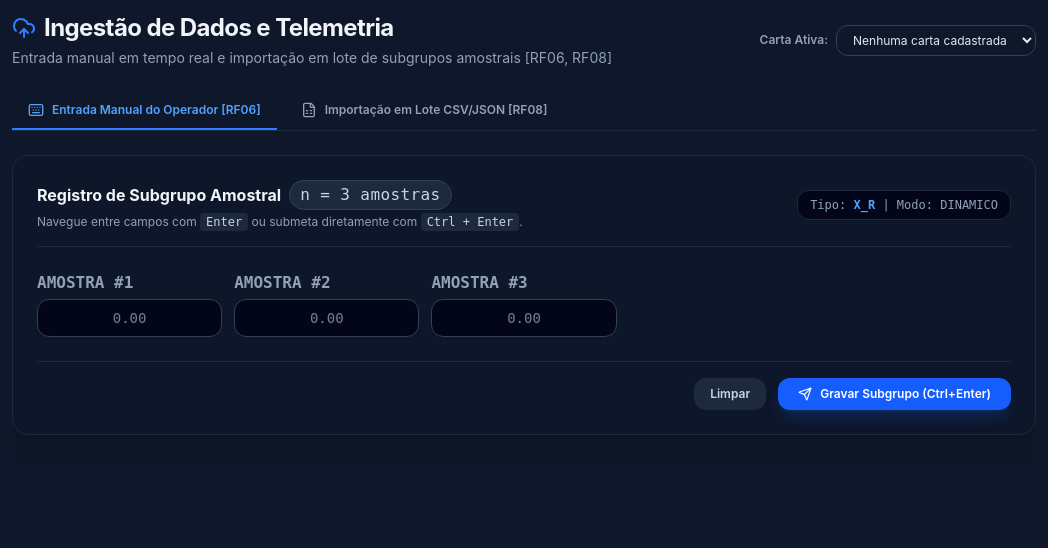
Test case: IngestaoPage › deve submeter subgrupo manual com sucesso e exibir feedback positivo [RF06]
The width and height of the screenshot is (1048, 548).
Step 1. Type "10.1" into the field labelled "Amostra #1" → (130, 318), box [37, 299, 222, 337]
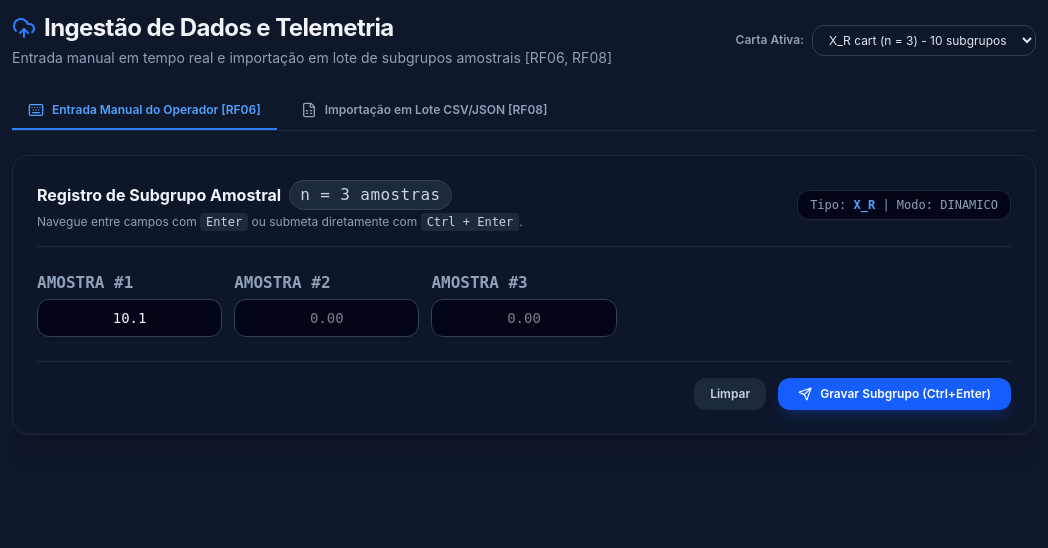
Step 2. Type "10.0" into the field labelled "Amostra #2" → (327, 318), box [234, 299, 419, 337]
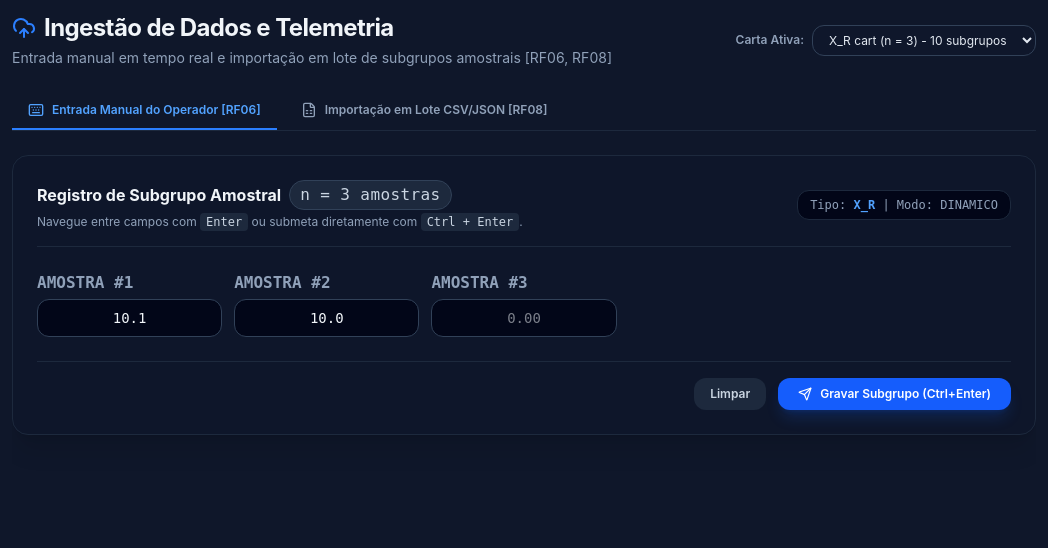
Step 3. Type "9.9" into the field labelled "Amostra #3" → (524, 318), box [431, 299, 617, 337]
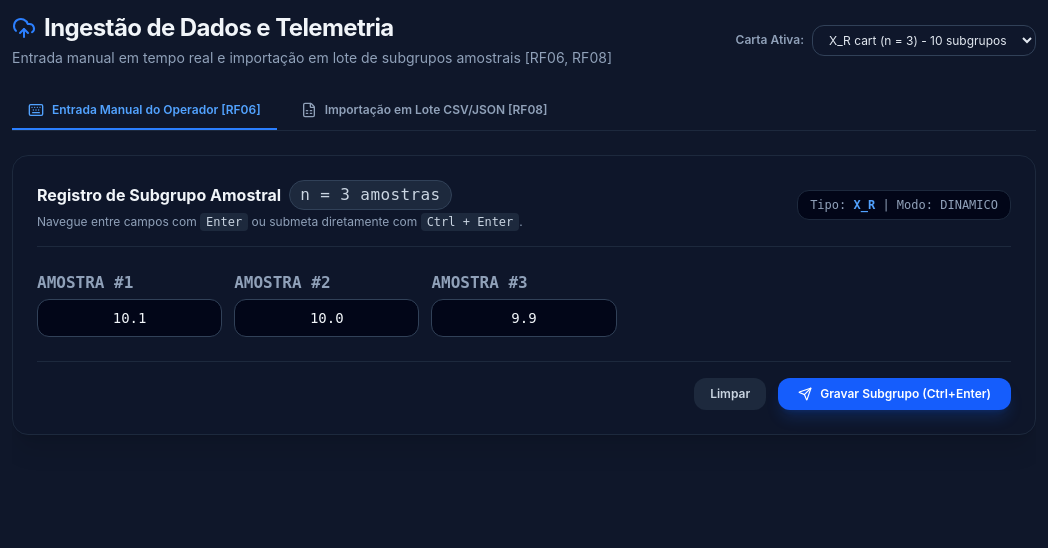
Step 4. Click the button "Gravar Subgrupo (Ctrl+Enter)" → (895, 394), box [778, 378, 1011, 410]
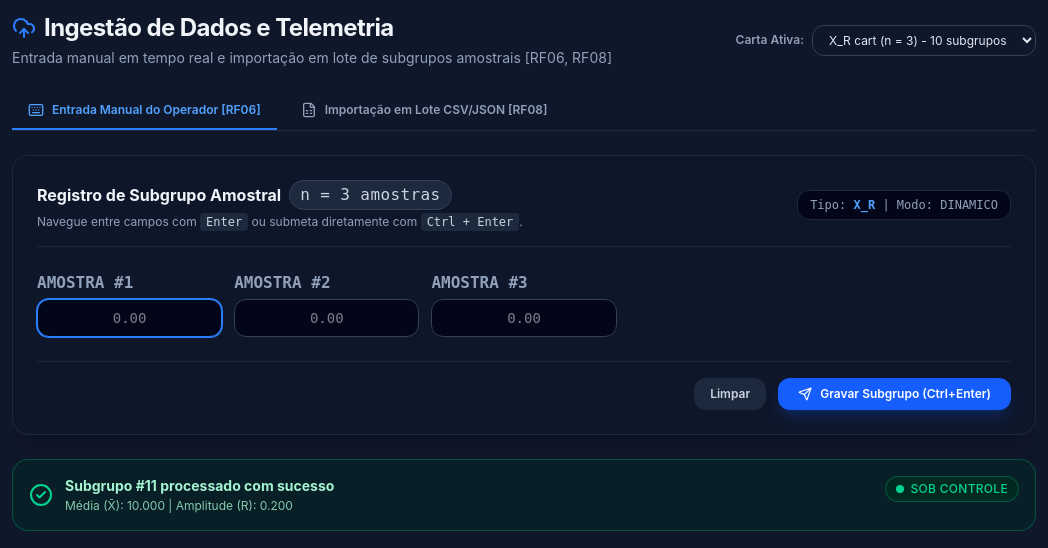
Check: the element with test id "feedback-subgrupo-manual" is shown, box [12, 459, 1036, 531]
Check: the text "SOB CONTROLE" is shown, box [886, 476, 1019, 502]
